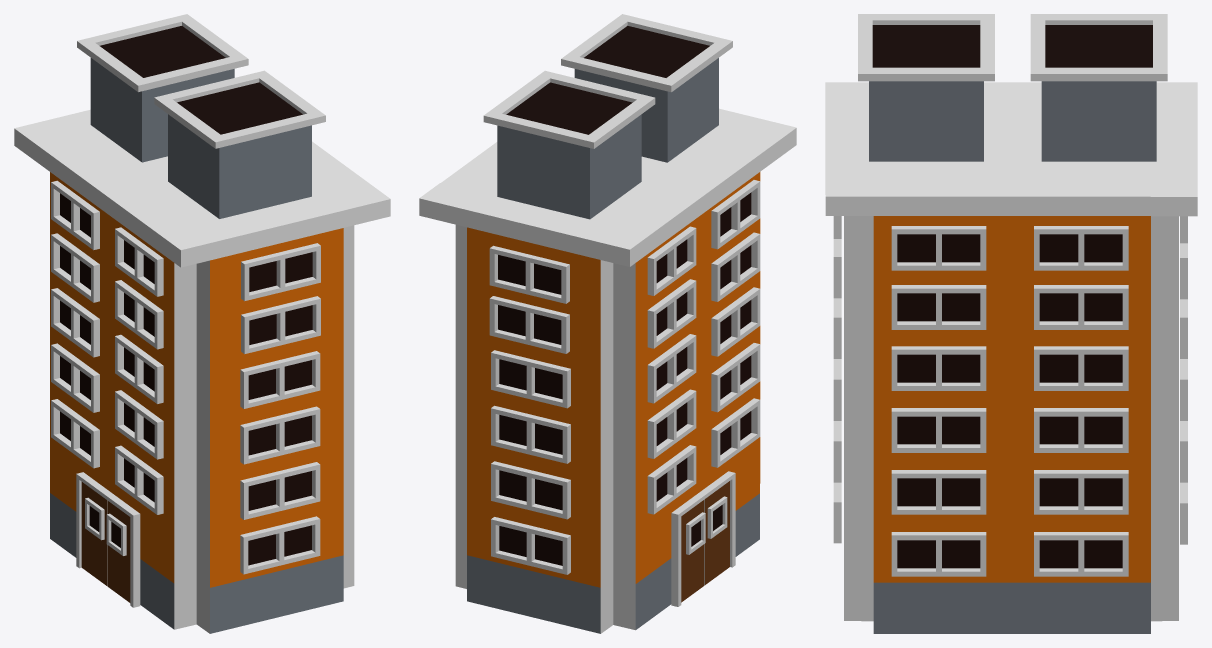
File: 2025-11-25-Boswell-MegaApartment-v009.fbx
3 views of the same model, side by side, from view 1: azimuth 30°, elevation 25°; view 2: azimuth 150°, elevation 25°; view 3: azimuth 270°, elevation 25° (orthographic). The views are drawn at different scales.
Parts seen in each view (by area): view 1: MegaApartment; view 2: MegaApartment; view 3: MegaApartment.
Part boxes in pixels (bbox=[...]): MegaApartment: bbox=[14, 14, 390, 633]; MegaApartment: bbox=[419, 14, 796, 633]; MegaApartment: bbox=[825, 14, 1197, 633].
Size of the model in its own units: 282 by 619 by 386.
